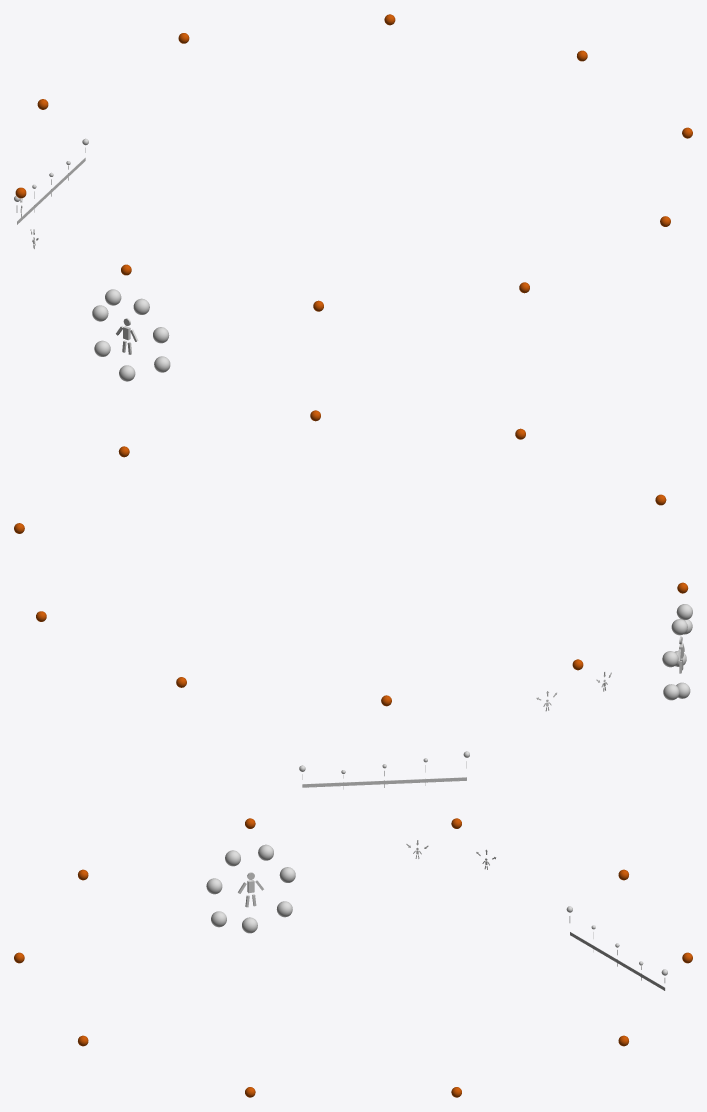
File: modele_1.FBX
The picture shows the model from 3 angles, top to bottom: view 1: azimuth 30°, elevation 25°; view 2: azimuth 150°, elevation 25°; view 3: azimuth 270°, elevation 25°; orthographic projection.
Bounding box in the file's own units: 1226 × 234 × 1268.
